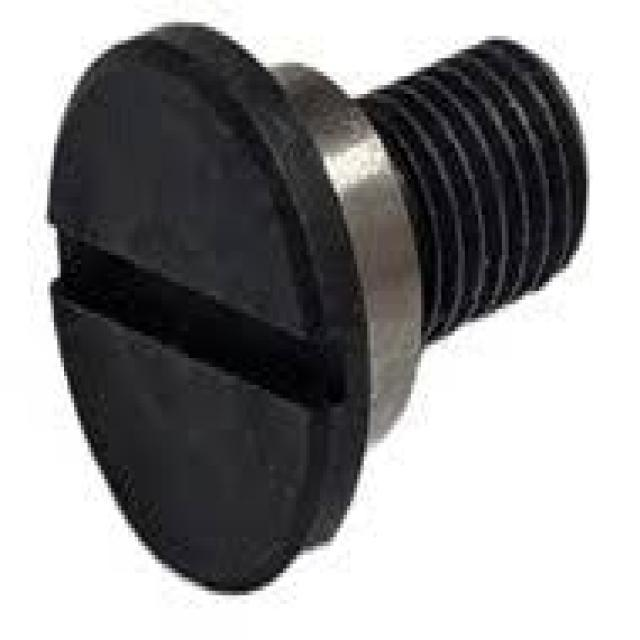duz: (44, 20, 373, 598)
